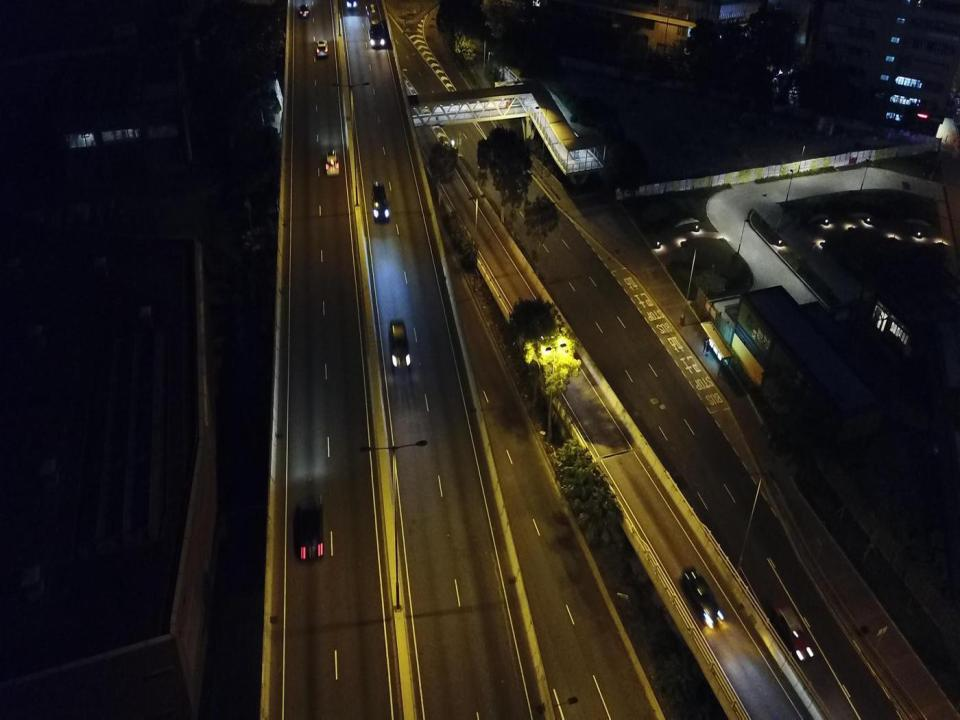bus: (369, 20, 385, 49)
car: (683, 568, 721, 625), (778, 606, 814, 662), (297, 494, 324, 562), (387, 318, 410, 369), (372, 180, 388, 224), (317, 38, 328, 57), (300, 4, 308, 18)
van: (326, 149, 340, 175)
